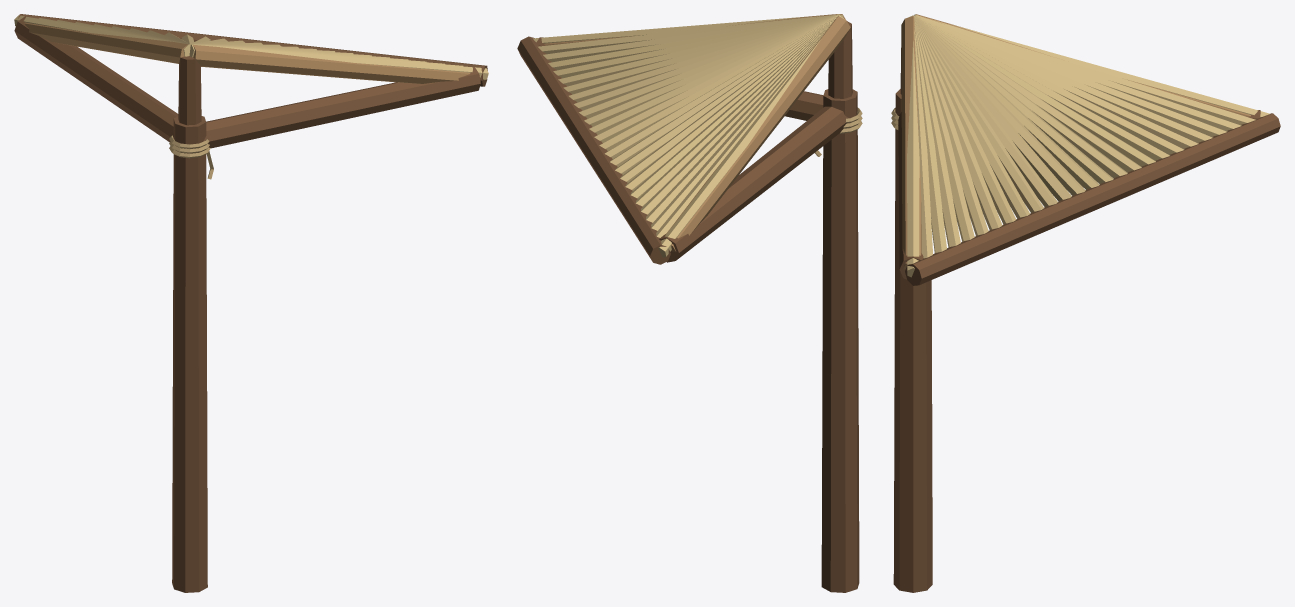
3 views of the same model, side by side, from view 1: azimuth 30°, elevation 25°; view 2: azimuth 150°, elevation 25°; view 3: azimuth 270°, elevation 25° (orthographic). The views are drawn at different scales.
Parts seen in each view (by area): view 1: BA-0007 batched; view 2: BA-0007 batched; view 3: BA-0007 batched.
Boxes of the visible parts, <box> form: BA-0007 batched: <box>14,14,488,592</box>; BA-0007 batched: <box>517,14,862,592</box>; BA-0007 batched: <box>891,14,1280,592</box>.
Size of the model in its own units: 1.8 by 2.9 by 1.8.
